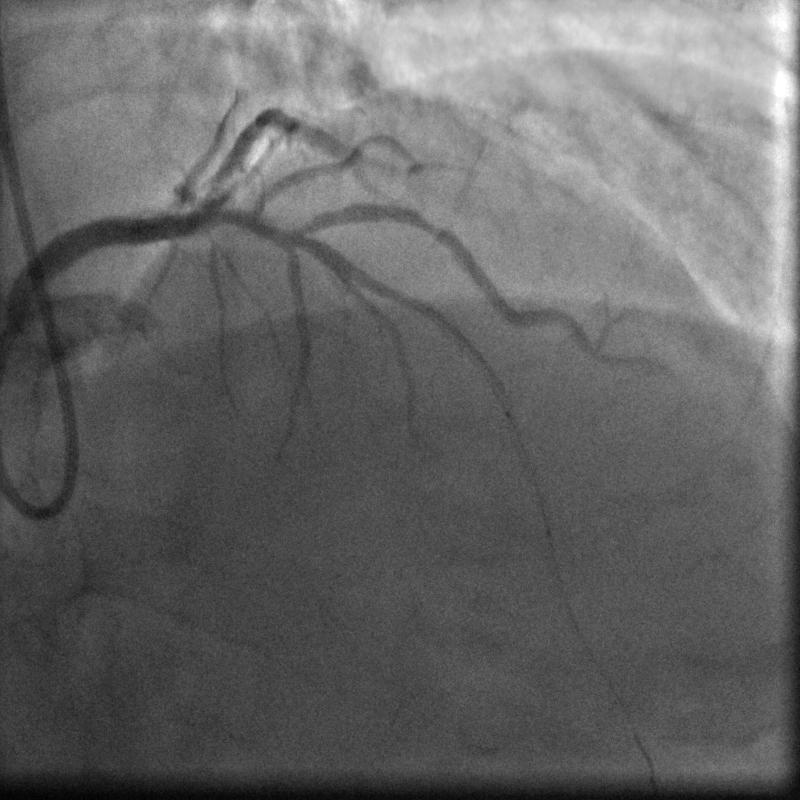Stenosis: (405, 203, 450, 246)
